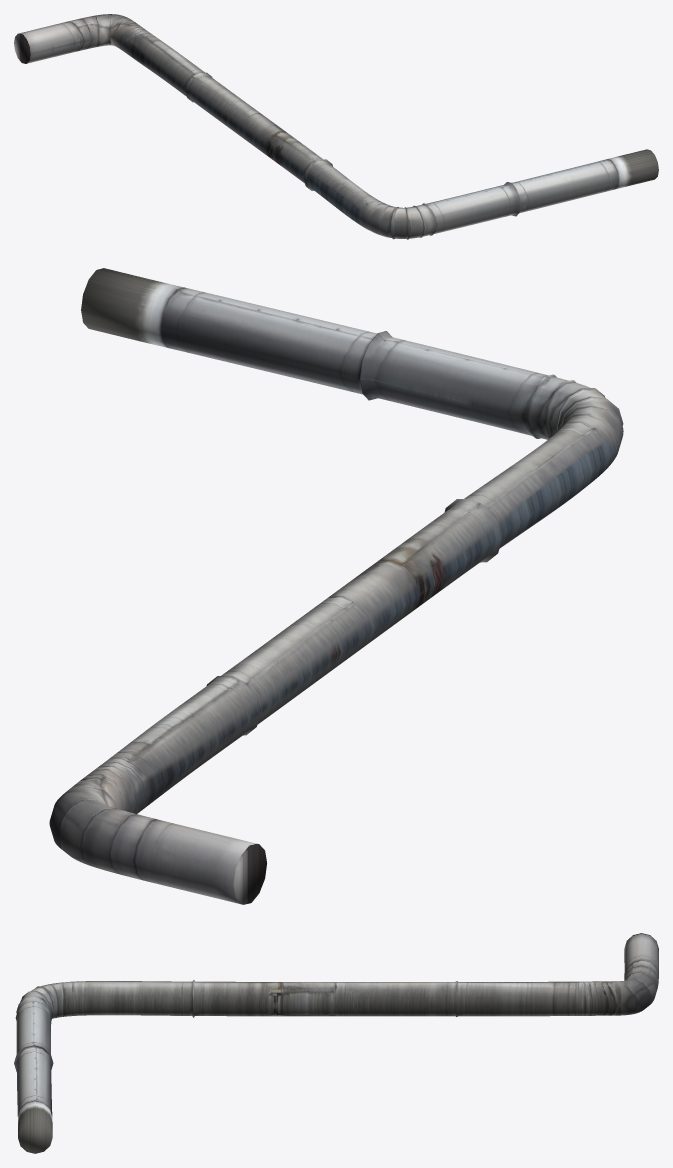
File: LONG S. METAL 2.fbx
3 views of the same model, one above another, from view 1: azimuth 30°, elevation 25°; view 2: azimuth 150°, elevation 25°; view 3: azimuth 270°, elevation 25° (orthographic). The views are drawn at different scales.
Parts seen in each view (by area): view 1: LONG S. METAL 2.001; view 2: LONG S. METAL 2.001; view 3: LONG S. METAL 2.001.
Part boxes in pixels (<box>): LONG S. METAL 2.001: <box>14,14,658,239</box>; LONG S. METAL 2.001: <box>49,268,623,904</box>; LONG S. METAL 2.001: <box>14,933,658,1153</box>.
Size of the model in its own units: 31.51 by 2.77 by 45.27.
